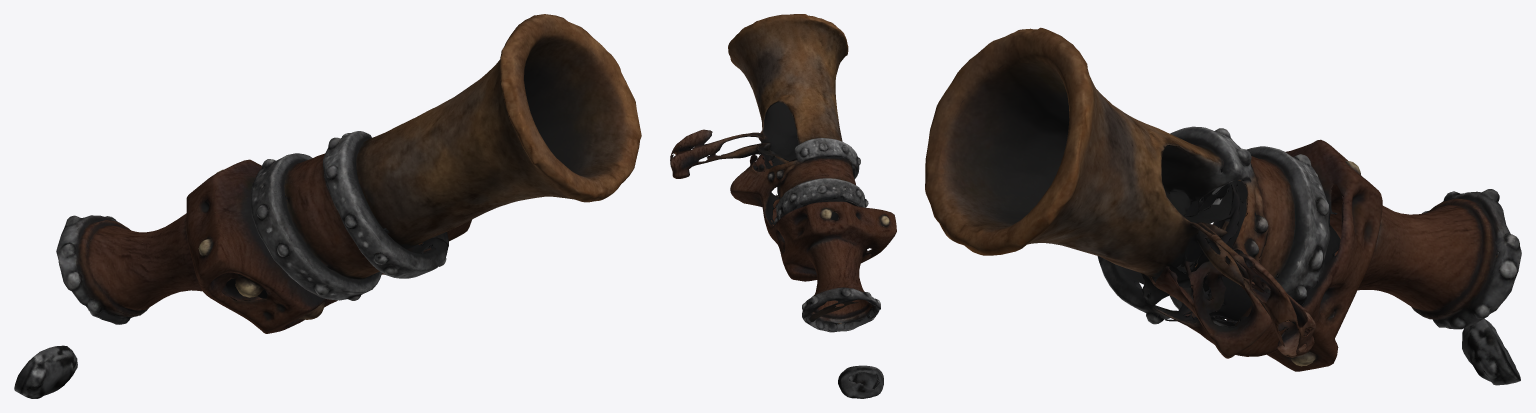
The model's file is w_boomer.glb.
3 renders of one model, left to right at view 1: azimuth 30°, elevation 25°; view 2: azimuth 150°, elevation 25°; view 3: azimuth 270°, elevation 25°, orthographic. The views are drawn at different scales.
Visible parts, largest first — view 1: geometry_0; view 2: geometry_0; view 3: geometry_0.
Boxes of the visible parts, left/top/right/bottom form: geometry_0: left=14, top=14, right=641, bottom=398; geometry_0: left=670, top=14, right=896, bottom=398; geometry_0: left=925, top=27, right=1521, bottom=385.
Bounding box in the file's own units: 0.9992 × 0.9491 × 0.99.
1 material, 1 textured.
